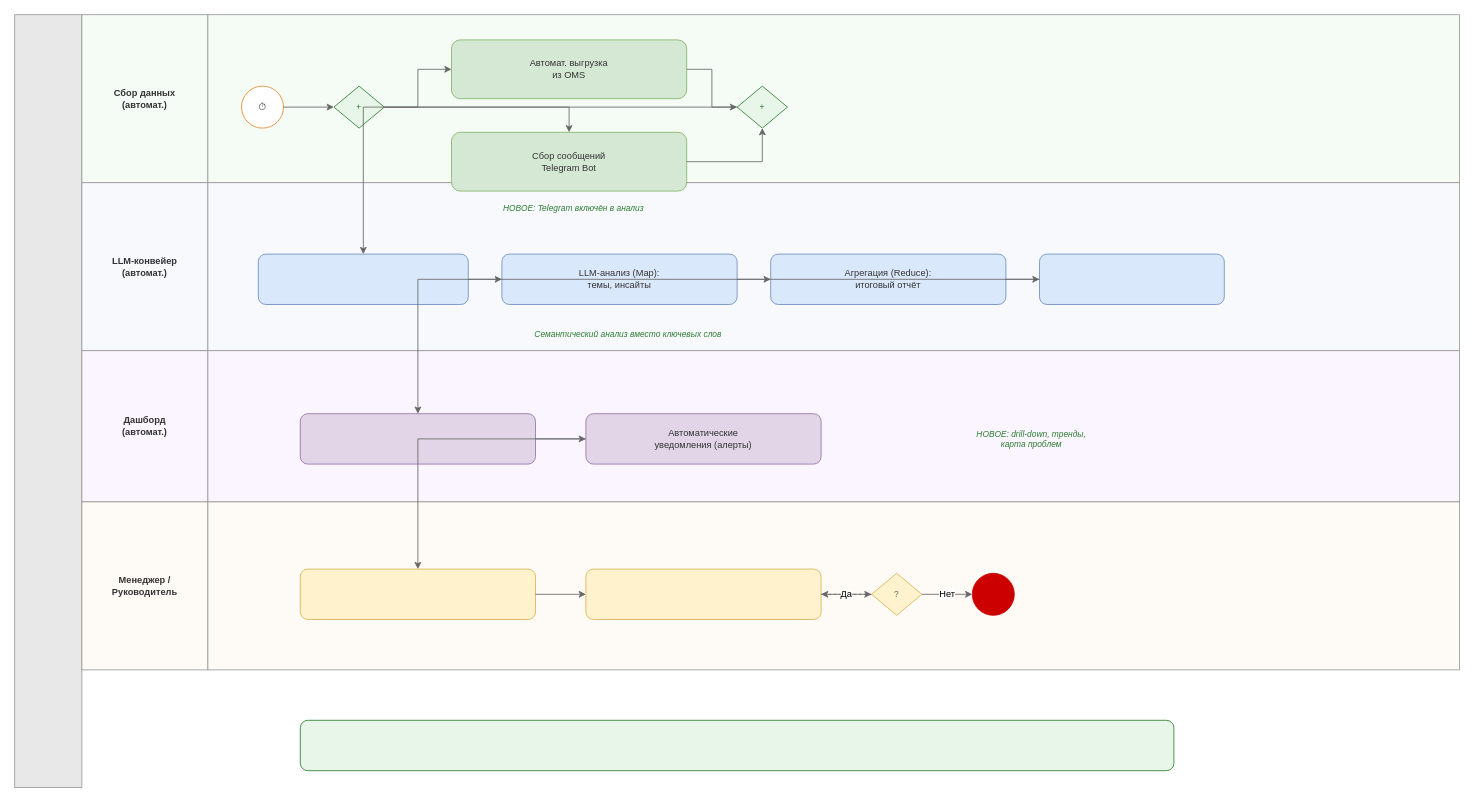
This 1474x802 diagram has some shape labels left out. Here are the shapes that lost their labels. From the top down, the centre of each, then its label:
[362,278]: Препроцессинг, пакетирование
[1131,278]: Сохранение в БД
[48,401]: Процесс анализа обратной связи (TO-BE)
[417,438]: Обновление дашборда
[417,594]: Просмотр инсайтов и рекомендаций
[703,594]: Принятие решений на основе инсайтов
[736,745]: Минуты вместо дней | OMS + Telegram | Семантический анализ (LLM)
